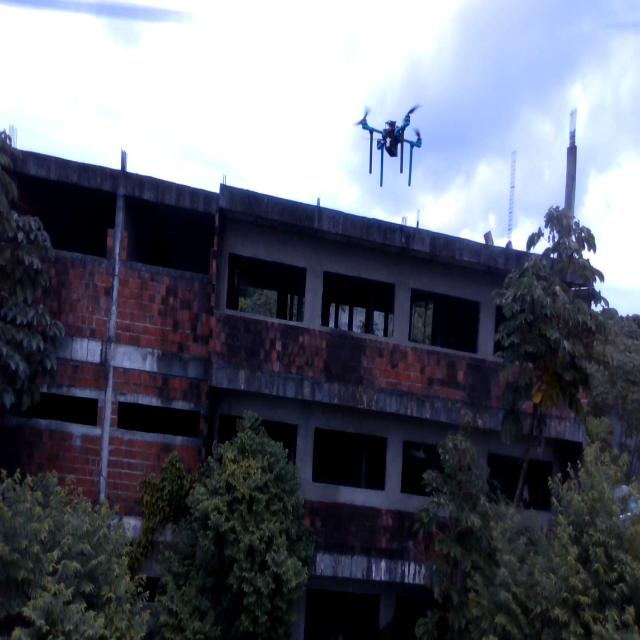-uav-: (347, 88, 430, 192)
